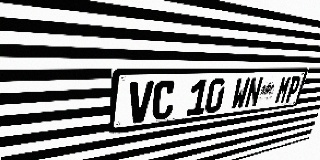0: (204, 78, 227, 114)
1: (186, 79, 210, 116)
C: (151, 80, 177, 121)
M: (274, 76, 292, 104)
N: (244, 77, 264, 108)
P: (284, 76, 302, 103)
V: (127, 81, 154, 124)
W: (230, 77, 251, 110)
